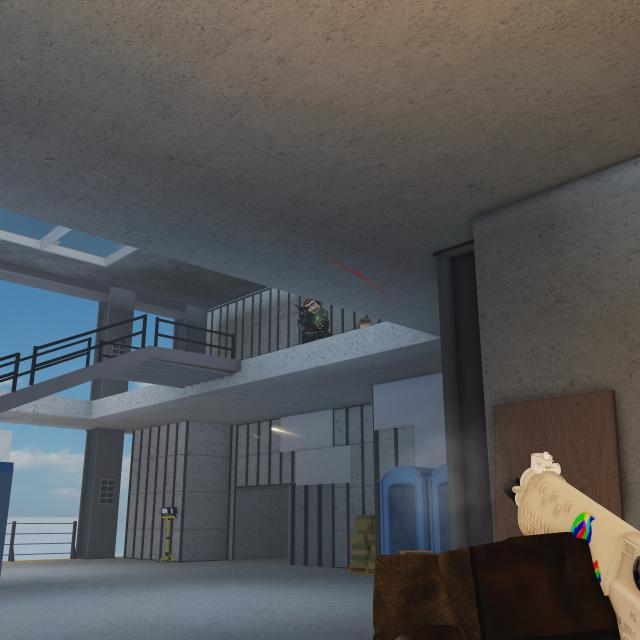Head: (302, 298, 322, 311), (358, 317, 371, 328)
Player: (297, 299, 330, 343)
